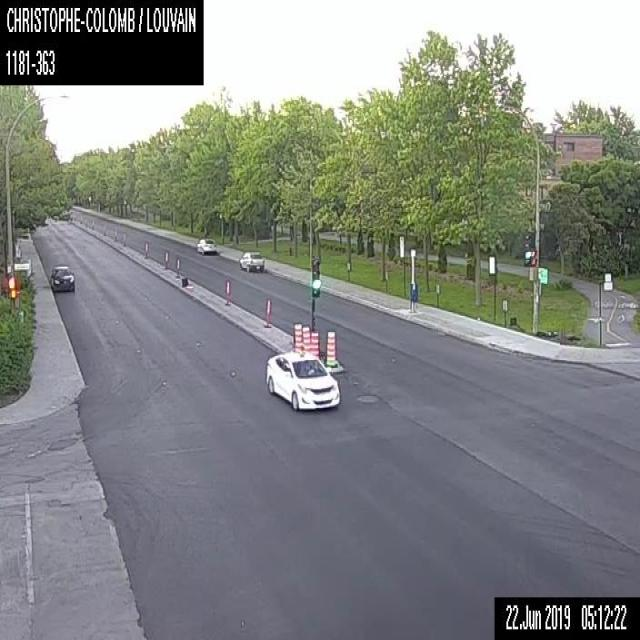construction: (324, 328, 337, 368), (309, 329, 319, 357), (292, 322, 302, 349), (301, 324, 310, 352)
vehicle: (266, 348, 340, 411), (50, 265, 74, 292), (238, 249, 264, 273), (195, 236, 216, 255)
